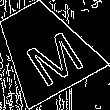M_NW: (9, 15, 80, 83)
